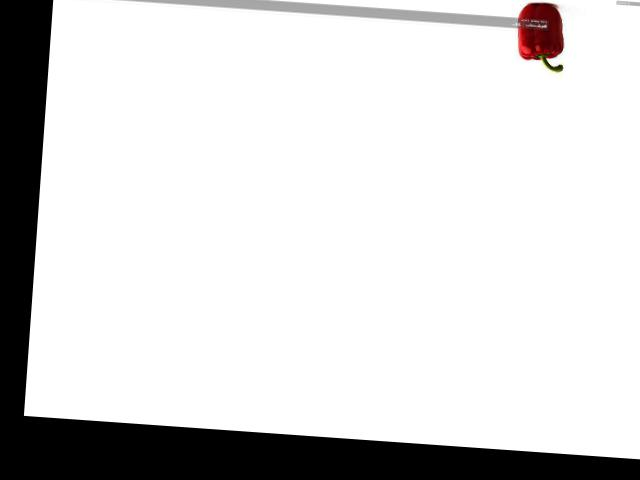bell_pepper: (511, 3, 573, 76)
